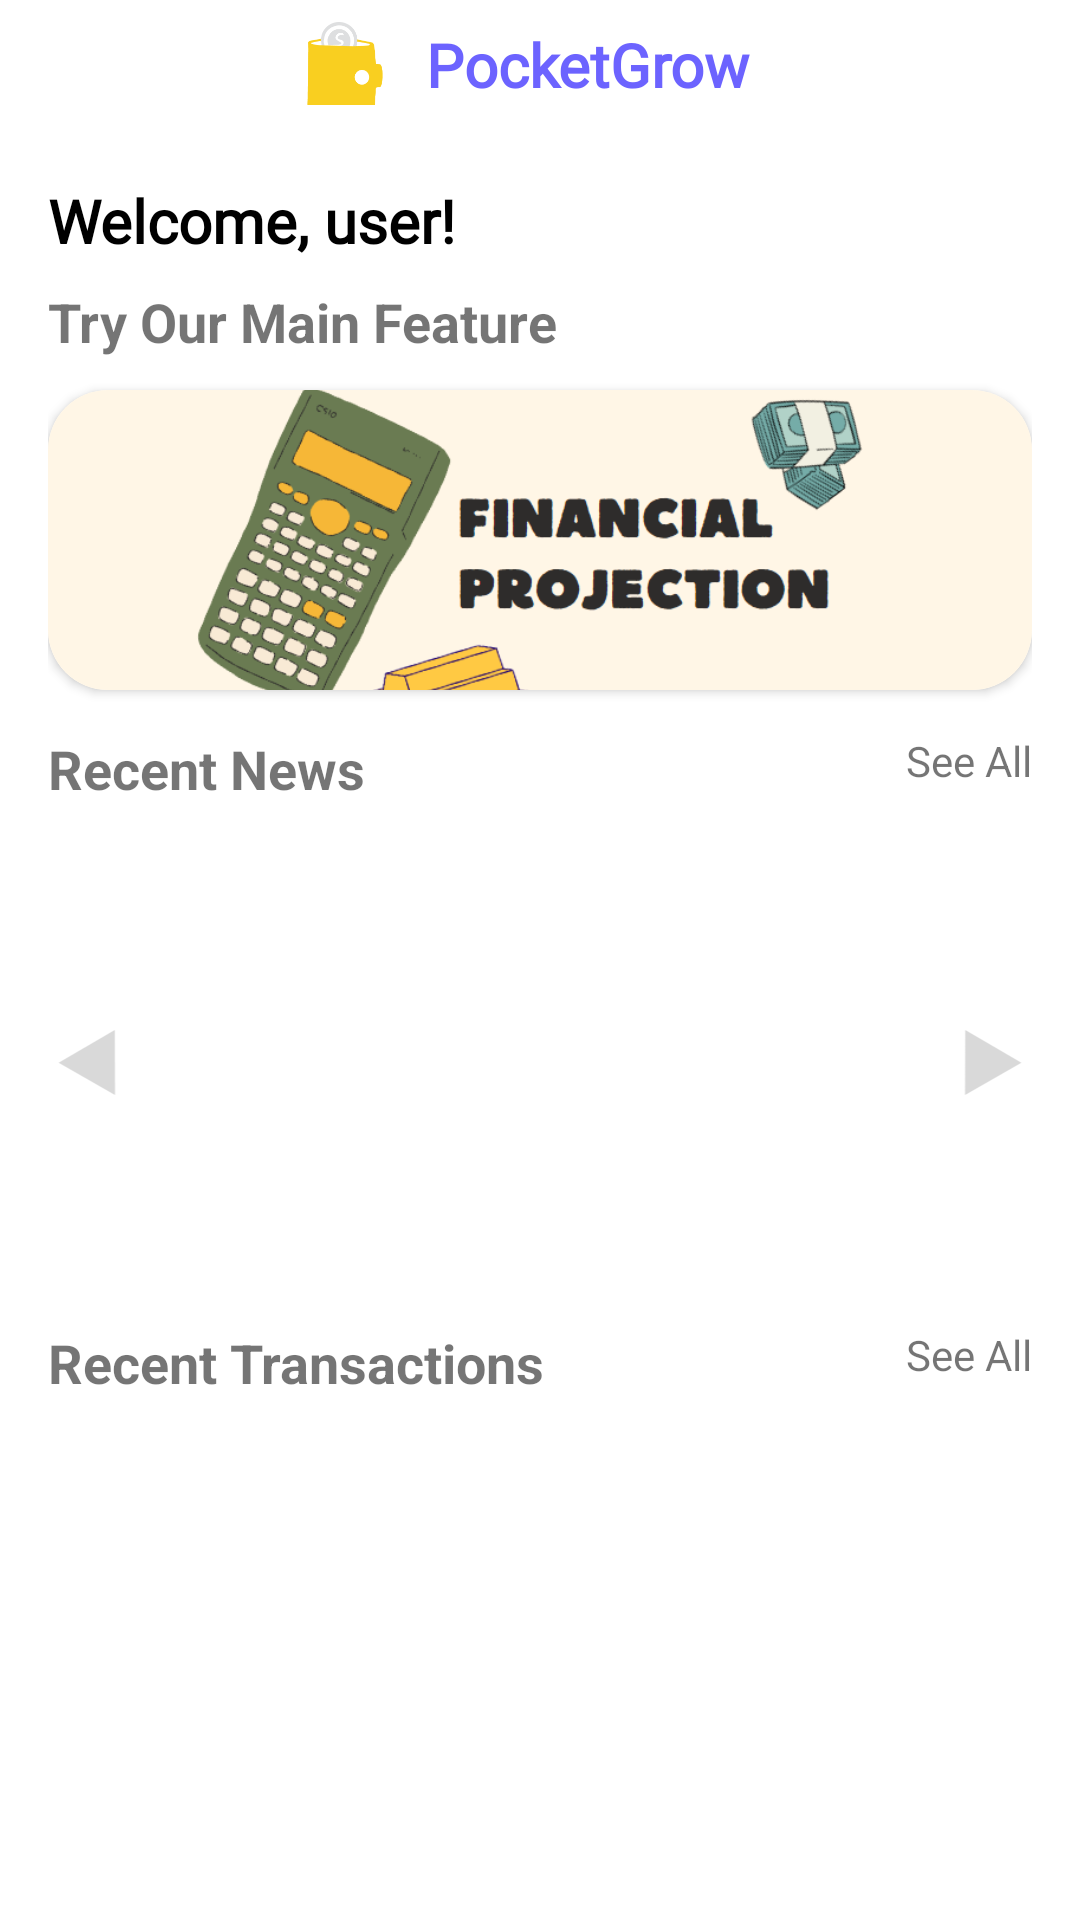

Icons on this 1080w x 1920h Android screen, each with the point to tap as point (x, y):
left: point (87, 1062)
right: point (993, 1062)
